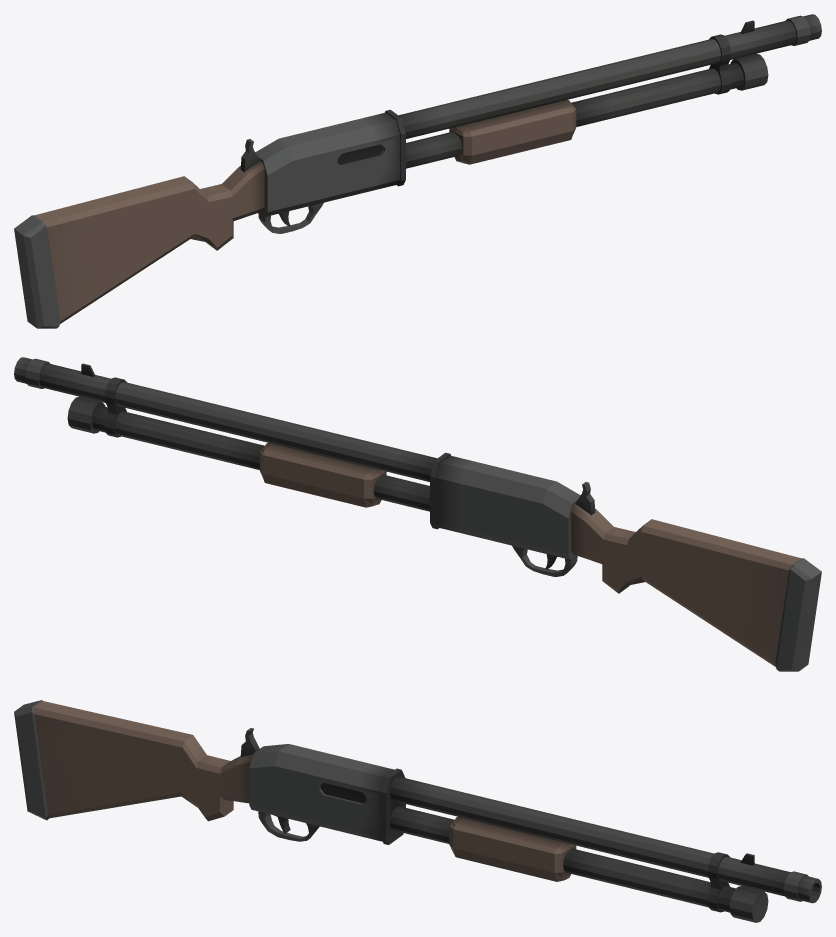
The model's file is q-shotgun-3.glb.
3 views of the same model, one above another, from view 1: azimuth 30°, elevation 25°; view 2: azimuth 150°, elevation 25°; view 3: azimuth 330°, elevation 25° (orthographic).
Parts seen in each view (by area): view 1: body; view 2: body; view 3: body.
Boxes of the visible parts, x1,y1,x2,y2 form: body: [14, 14, 821, 328]; body: [14, 357, 821, 671]; body: [14, 700, 821, 922].
Size of the model in its own units: 1 by 0.163 by 0.0426.
